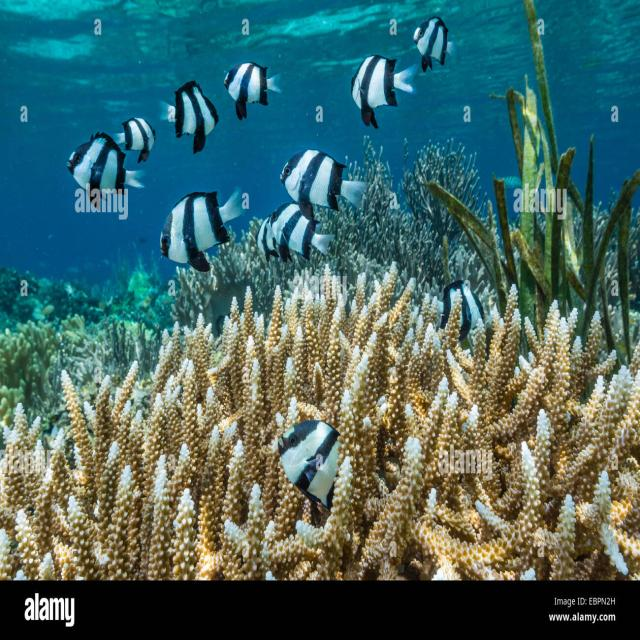Three_striped DasmselFish: (278, 146, 369, 230), (160, 186, 246, 270), (277, 417, 342, 510), (65, 130, 142, 197), (351, 50, 415, 127), (162, 78, 220, 153), (223, 60, 280, 122), (433, 279, 488, 339), (275, 202, 334, 255), (413, 13, 453, 70), (119, 121, 159, 164), (255, 210, 276, 261)
